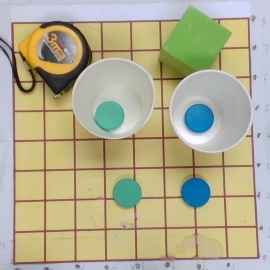blue: (180, 177, 211, 208)
cup_blue: (163, 69, 254, 155)
cup_green: (68, 57, 157, 141)
green: (112, 178, 143, 208)
